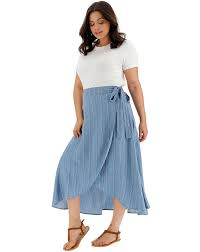C_T-shirt: (70, 38, 138, 87)
C_skirt: (41, 83, 155, 225)
